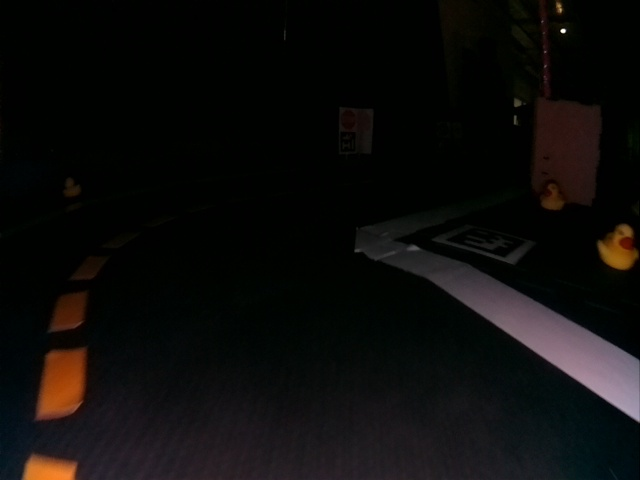Duckie: (599, 223, 637, 270), (540, 183, 564, 208), (62, 177, 81, 197)
QR code: (439, 225, 526, 263), (341, 132, 356, 151)
Stop sign: (341, 109, 356, 130)
